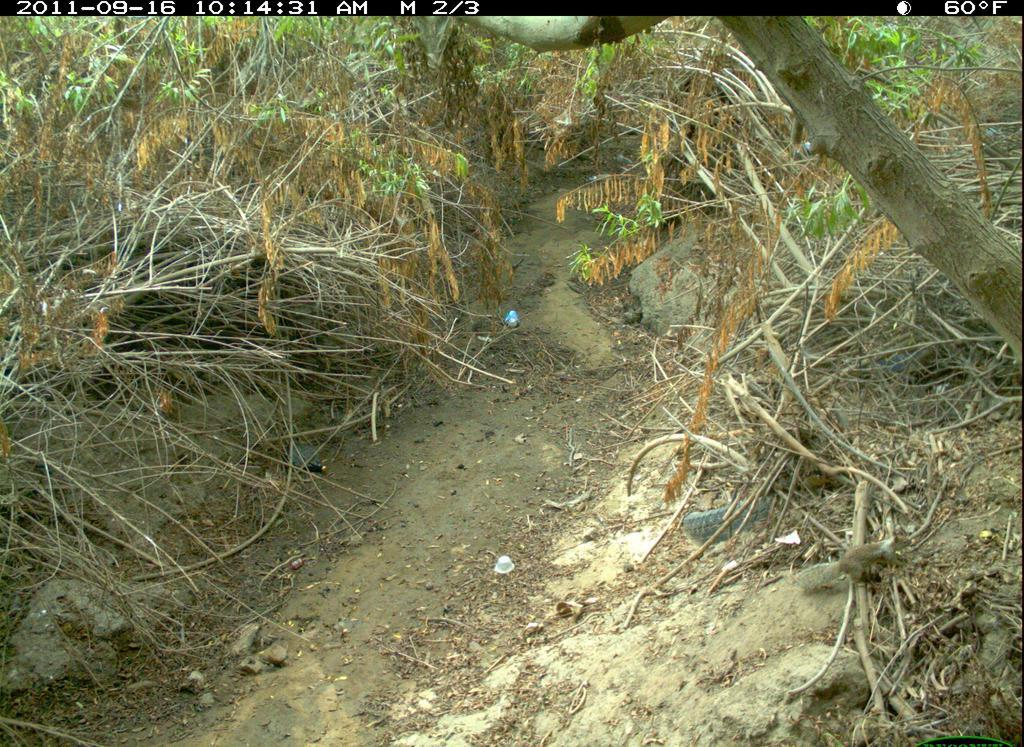squirrel: (792, 533, 918, 598)
